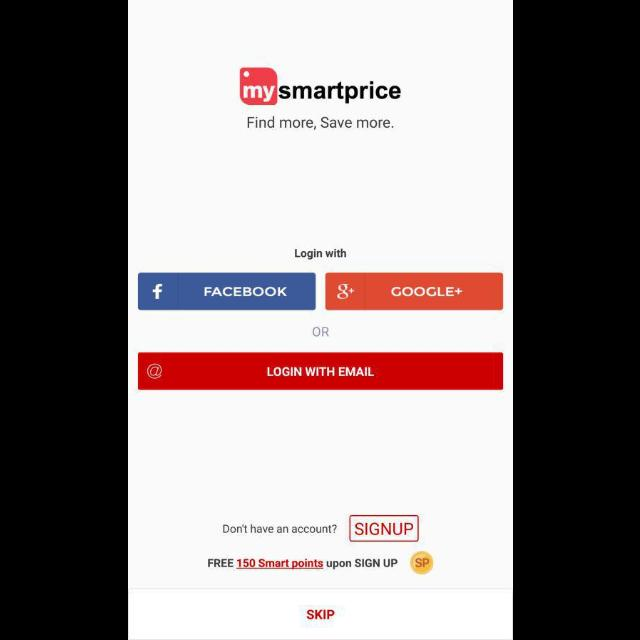image: (323, 273, 502, 311), (137, 273, 315, 311), (238, 67, 402, 106), (409, 551, 433, 575)
text: (208, 558, 398, 570), (246, 116, 394, 130), (222, 524, 336, 534), (294, 249, 346, 261), (311, 327, 329, 338)
textbutton: (128, 588, 512, 640), (137, 352, 503, 390), (348, 514, 418, 542)
